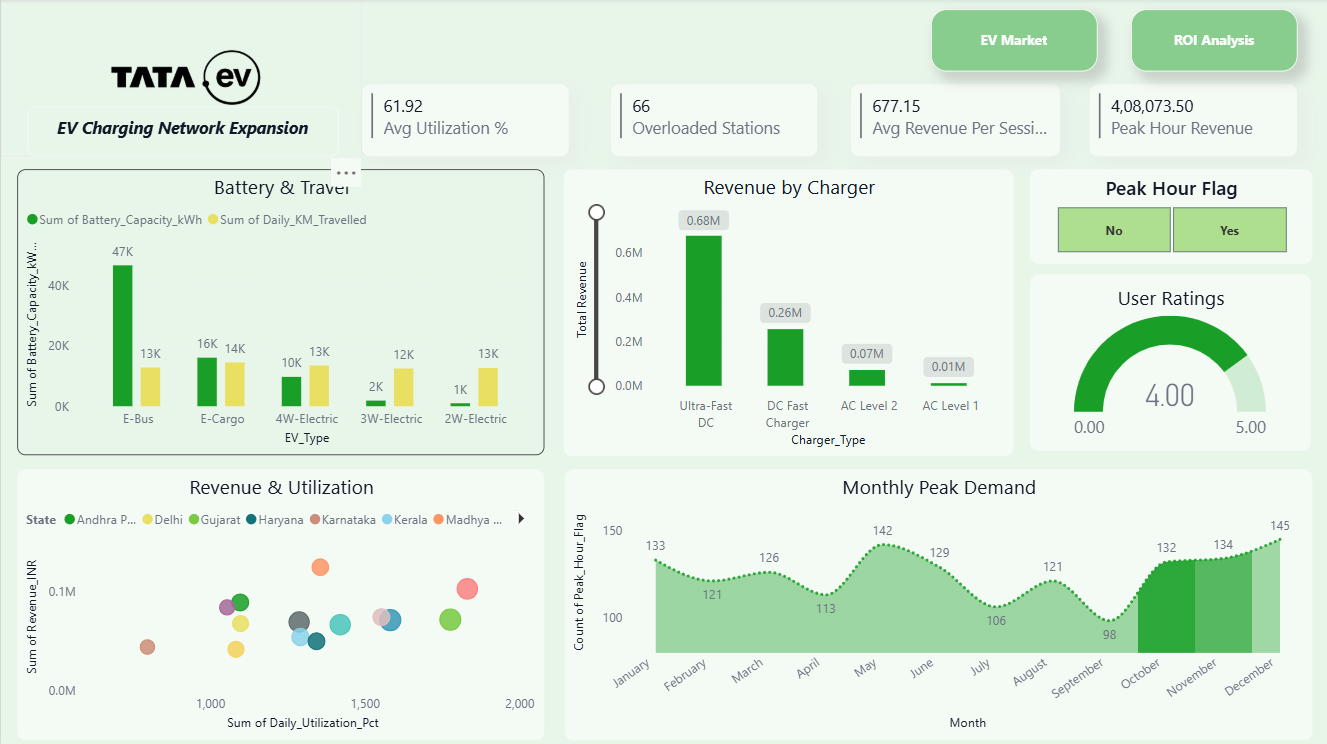

This screenshot's page, from the dashboard's own definition file:
{"tool":"powerbi","page":{"name":"Charging Infrastarure and utilization","canvas":[1280,720],"ordinal":1},"visuals":[{"type":"multiRowCard","fields":{"Values":["_measure.Overloaded Stations"]},"box":[588.7,83.2,199.1,70],"z":0},{"type":"multiRowCard","fields":{"Values":["_measure.Avg Utilization %"]},"box":[348.7,83.2,199.1,70],"z":1000},{"type":"multiRowCard","fields":{"Values":["_measure.Peak Hour Revenue"]},"box":[1050.8,83.2,200.3,70],"z":2000},{"type":"multiRowCard","fields":{"Values":["_measure.Avg Revenue Per Session"]},"box":[820.4,83.2,201.5,70],"z":3000},{"type":"columnChart","title":"Revenue by Charger","fields":{"Category":["Charging_Stations_C.Charger_Type"],"Y":["_measure.Total Revenue"]},"box":[543.2,165.5,434.1,277.1],"z":4000},{"type":"areaChart","title":"Monthly Peak Demand","fields":{"Category":["Charging_Sessions_C.Session_Date.Variation.Date Hierarchy.Month"],"Y":["CountNonNull(Charging_Sessions_C.Peak_Hour_Flag)"]},"box":[536.9,454.8,721.5,260.6],"z":5000},{"type":"scatterChart","title":"Revenue & Utilization","fields":{"X":["Sum(Charging_Stations_C.Daily_Utilization_Pct)"],"Y":["Sum(Charging_Sessions_C.Revenue_INR)"],"Size":["Sum(Charging_Stations_C.Number_of_Ports)"],"Series":["Charging_Stations_C.State"]},"box":[15.9,455,508.9,261.2],"z":6000},{"type":"clusteredColumnChart","title":"Battery & Travel","fields":{"Category":["EV_Vehicle_Registrations_C.EV_Type"],"Y":["Sum(EV_Vehicle_Registrations_C.Battery_Capacity_kWh)","Sum(EV_Vehicle_Registrations_C.Daily_KM_Travelled)"]},"box":[15.9,165.5,508.9,275.9],"z":7000},{"type":"gauge","title":"User Ratings","fields":{"Y":["Avg(Charging_Sessions_C.User_Rating)"],"MaxValue":["Max(Charging_Sessions_C.User_Rating)"]},"box":[992.9,266.6,271.4,170],"z":8000},{"type":"slicer","title":"Peak Hour Flag","fields":{"Values":["Charging_Sessions_C.Peak_Hour_Flag"]},"box":[992.5,165,272.4,90.8],"z":9000},{"type":"image","box":[0,2.4,348.7,150.8],"z":10000},{"type":"actionButton","title":"dgdfsg","box":[897.6,10.9,160.5,60.3],"z":11000},{"type":"actionButton","title":"dgdfsg","box":[1090.6,10.9,160.5,60],"z":12000},{"type":"textbox","box":[25.3,105,300.4,48.3],"z":13000}]}

Visuals, with their boxes in screenshot pixels (x1, y1, x2, y2), scaled from the page's 1280x720 canvas onto the 1327x744 screenshot:
multiRowCard - _measure.Overloaded Stations: [610,86,817,158]
multiRowCard - _measure.Avg Utilization %: [362,86,568,158]
multiRowCard - _measure.Peak Hour Revenue: [1089,86,1297,158]
multiRowCard - _measure.Avg Revenue Per Session: [851,86,1059,158]
"Revenue by Charger" columnChart: [563,171,1013,457]
"Monthly Peak Demand" areaChart: [557,470,1305,739]
"Revenue & Utilization" scatterChart: [16,470,544,740]
"Battery & Travel" clusteredColumnChart: [16,171,544,456]
"User Ratings" gauge: [1029,275,1311,451]
"Peak Hour Flag" slicer: [1029,171,1311,264]
image: [0,2,362,158]
"dgdfsg" actionButton: [931,11,1097,74]
"dgdfsg" actionButton: [1131,11,1297,73]
textbox: [26,109,338,158]
